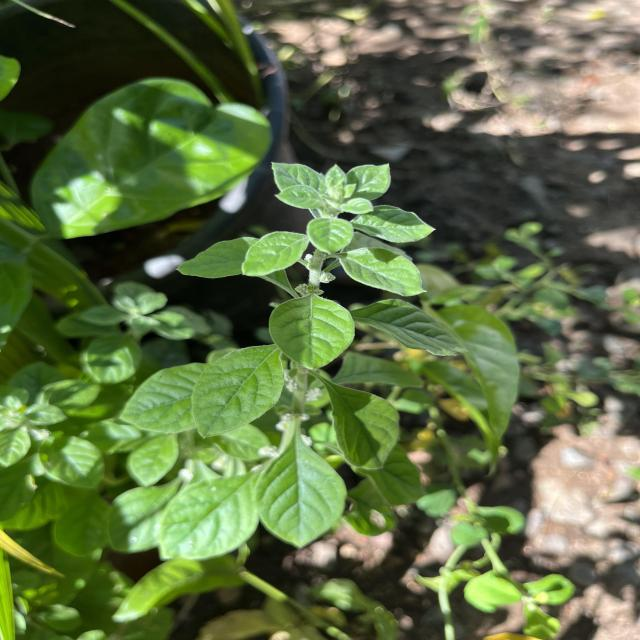Aerva lanata: (189, 342, 287, 442), (265, 292, 357, 372), (352, 296, 470, 358), (332, 244, 429, 298), (351, 203, 438, 246), (238, 228, 312, 278)
